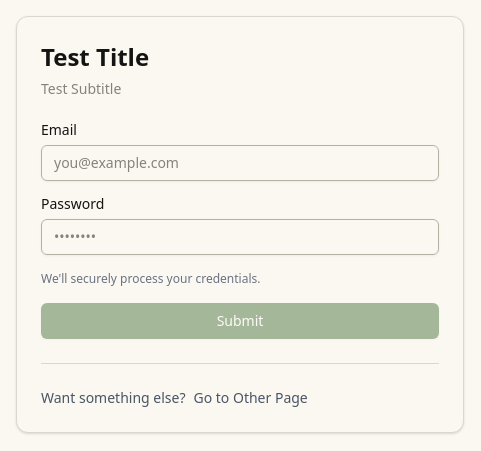
Test case: AuthCard Component › should have a disabled submit button initially and enable it after valid input
expect the button "Submit" is disabled: met, box [41,302,439,338]
Fill in the form
Type "test@example.com" into the field labelled "Email" at (240, 162), box [41,144,439,180]
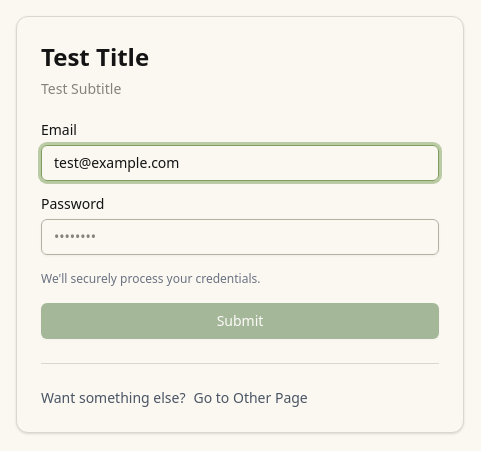
Type "password123" into the password field labelled "Password" at (240, 236), box [41,218,439,254]
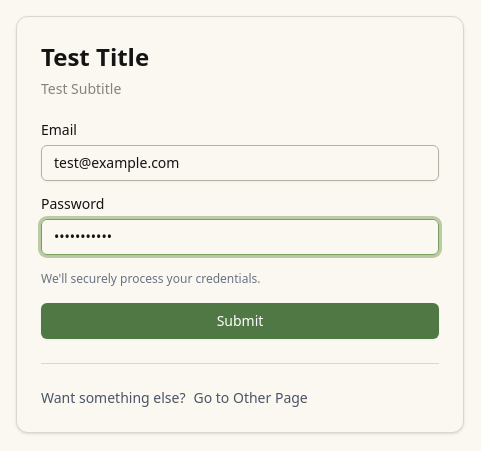
expect the button "Submit" is enabled: met, box [41,302,439,338]
